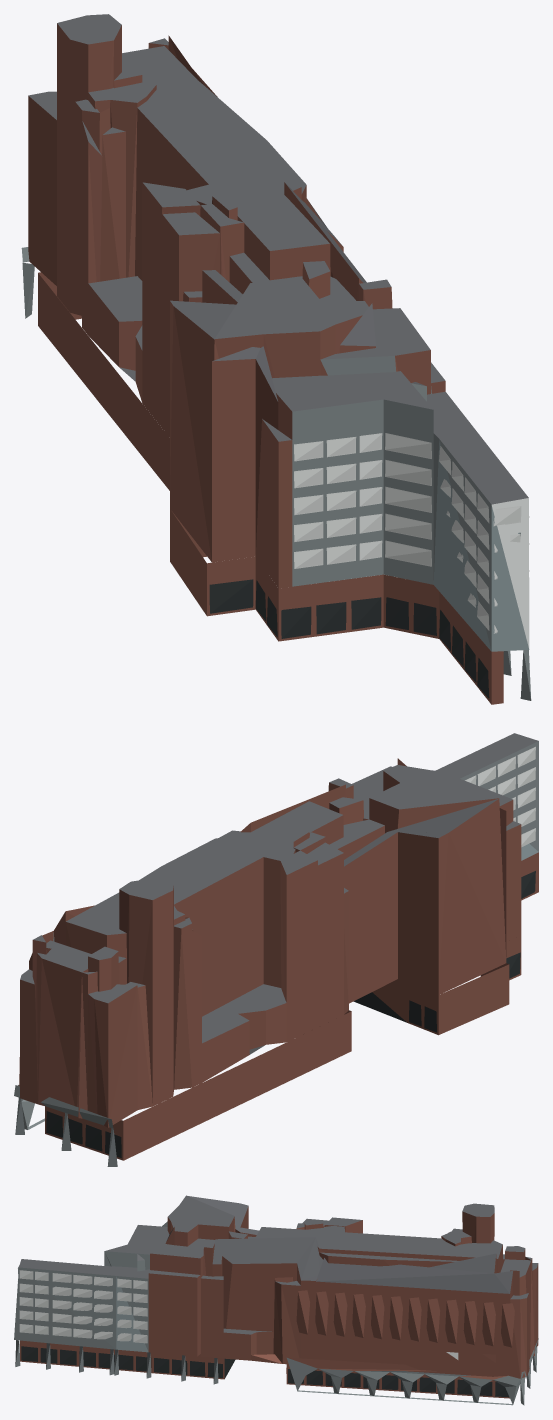
The model's file is carlton-hotel.lod2.glb.
3 views of the same model, one above another, from view 1: azimuth 30°, elevation 25°; view 2: azimuth 150°, elevation 25°; view 3: azimuth 270°, elevation 25° (orthographic). The views are drawn at different scales.
Parts seen in each view (by area): view 1: lod2; view 2: lod2; view 3: lod2.
Boxes of the visible parts, left/top/right/bottom form: lod2: left=21, top=14, right=531, bottom=704; lod2: left=14, top=733, right=538, bottom=1166; lod2: left=14, top=1195, right=538, bottom=1405.
Bounding box in the file's own units: 39.27 × 38.8 × 113.
